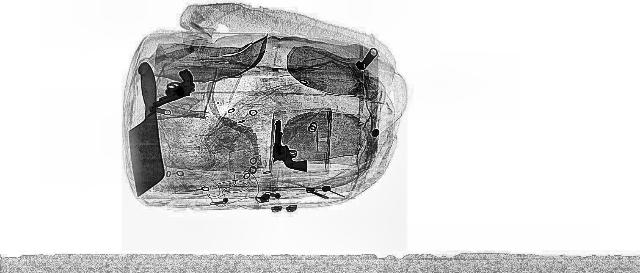Gun: (120, 69, 222, 107), (272, 120, 308, 170)
Knife: (124, 61, 166, 195)
